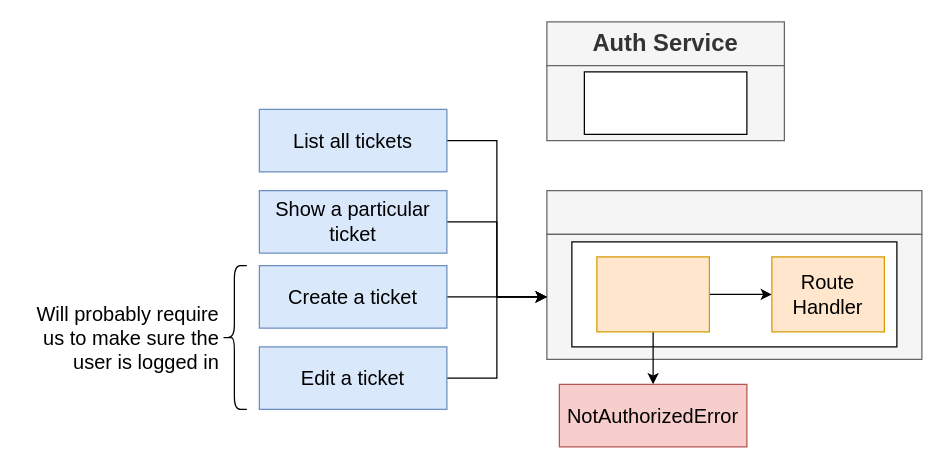
Image size: 944x469. Some labels were removed from this diagram. The centre of each missing label's shape, as x and y in pixels:
Express: pixel 665 102
requireAuth Middleware: pixel 652 294
Tickets Service: pixel 734 211
